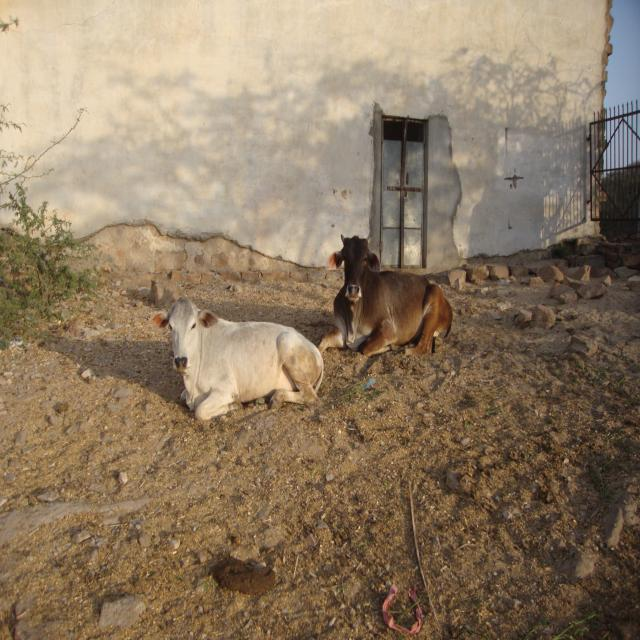cow: (149, 297, 324, 420), (319, 237, 452, 357)
